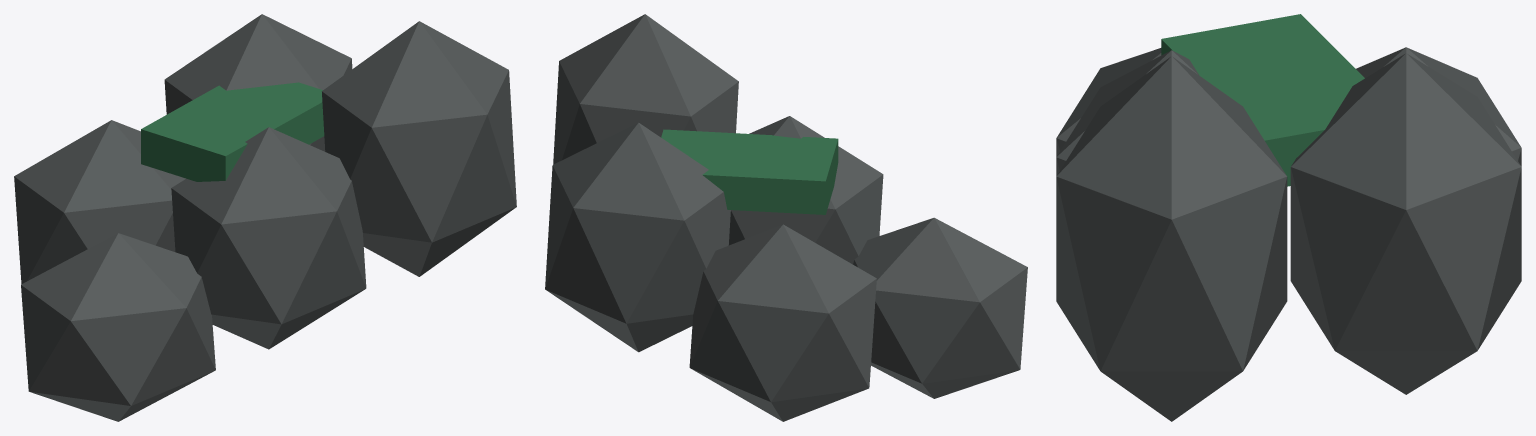
Rendered from df_rock_cluster_b.glb.
3 renders of one model, left to right at view 1: azimuth 30°, elevation 25°; view 2: azimuth 150°, elevation 25°; view 3: azimuth 270°, elevation 25°, orthographic. The views are drawn at different scales.
Visible parts, largest first — view 1: rock_4, rock_2, rock_0, rock_1, moss_patch, rock_3; view 2: rock_3, rock_1, rock_0, rock_4, moss_patch, rock_2; view 3: rock_4, rock_3, moss_patch, rock_1, rock_2, rock_0.
Boxes of the visible parts, <box> form: rock_4: <box>322,21,516,276</box>; rock_2: <box>171,127,366,349</box>; rock_0: <box>21,233,215,421</box>; rock_1: <box>14,120,185,284</box>; moss_patch: <box>141,82,324,181</box>; rock_3: <box>164,14,352,151</box>; rock_3: <box>545,122,730,352</box>; rock_1: <box>689,224,876,421</box>; rock_0: <box>853,217,1027,398</box>; rock_4: <box>553,14,738,164</box>; moss_patch: <box>661,129,838,214</box>; rock_2: <box>728,116,883,264</box>; rock_4: <box>1056,56,1287,421</box>; rock_3: <box>1290,53,1521,394</box>; moss_patch: <box>1161,14,1364,186</box>; rock_1: <box>1356,47,1521,166</box>; rock_2: <box>1056,50,1198,175</box>; rock_0: <box>1056,48,1161,156</box>.
Size of the model in its own units: 1.15 by 0.7488 by 0.6748.
